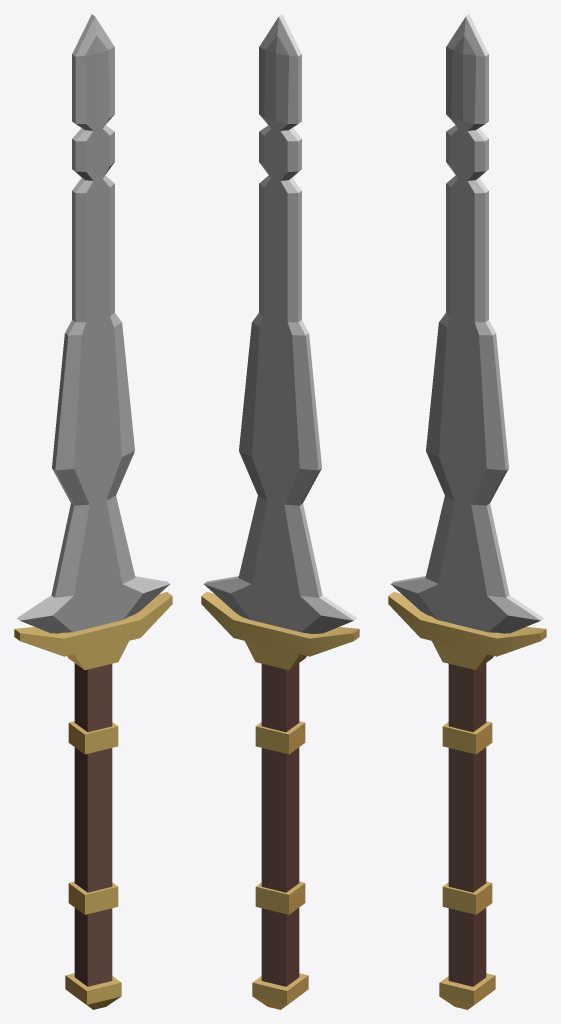
The model's file is SF_Wep_Elven_Sweihander_01.fbx.
The picture shows the model from 3 angles, left to right: view 1: azimuth 30°, elevation 25°; view 2: azimuth 150°, elevation 25°; view 3: azimuth 330°, elevation 25°; orthographic projection.
Visible parts, largest first — view 1: SF_Wep_Elven_Sweihander_01; view 2: SF_Wep_Elven_Sweihander_01; view 3: SF_Wep_Elven_Sweihander_01.
Part boxes in pixels (x1,y1,x2,y2): SF_Wep_Elven_Sweihander_01: (14,14,172,1009); SF_Wep_Elven_Sweihander_01: (201,14,359,1009); SF_Wep_Elven_Sweihander_01: (388,14,546,1009).
Bounding box in the file's own units: 0.5925 × 3.67 × 0.1437.
